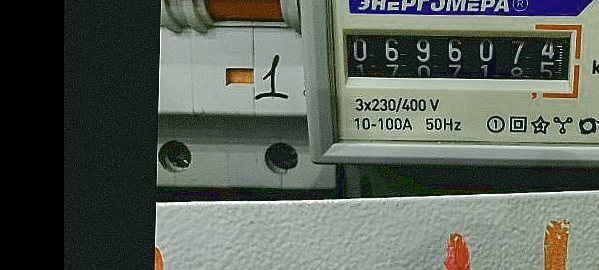0: (351, 36, 370, 62), (478, 36, 495, 63)
4: (540, 37, 556, 59)
5: (539, 60, 556, 80)
6: (446, 36, 464, 63), (383, 36, 401, 62)
7: (510, 38, 526, 65)
9: (415, 36, 431, 62)
screen: (332, 16, 587, 102)
